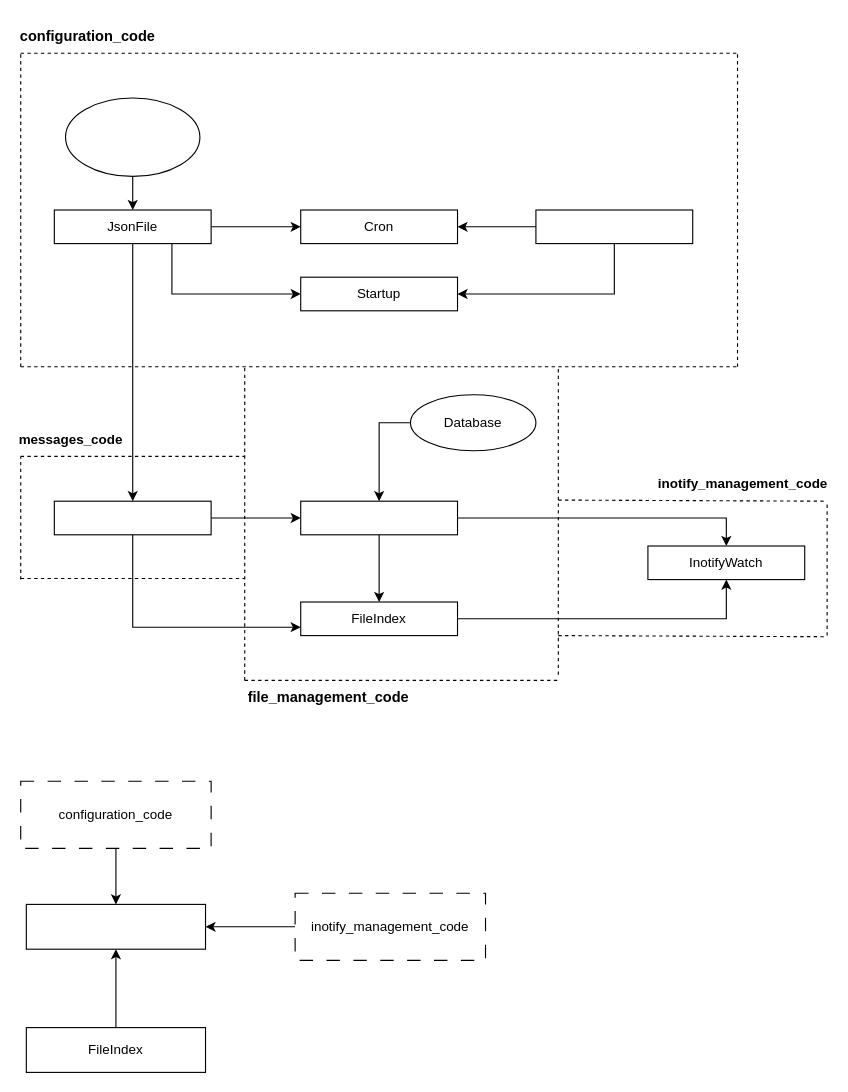
The diagram is 848 pixels wide and 1092 high, and some of its shapes have lost their labels. Each missing label, with the centre of its shape:
antivirus: the point at 115,926
configuration file: the point at 132,136
File: the point at 379,517
get_user_name: the point at 614,226
Messages: the point at 132,517
